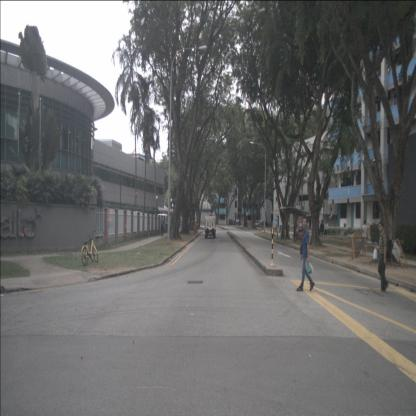human-pedestrian-adult: (296, 217, 315, 292), (372, 221, 390, 294), (361, 221, 368, 254), (160, 214, 165, 236), (320, 220, 324, 244), (274, 220, 278, 233), (324, 222, 327, 237)
vehicle-bicycle: (80, 228, 99, 267)
vehicle-truck: (204, 216, 216, 238)
